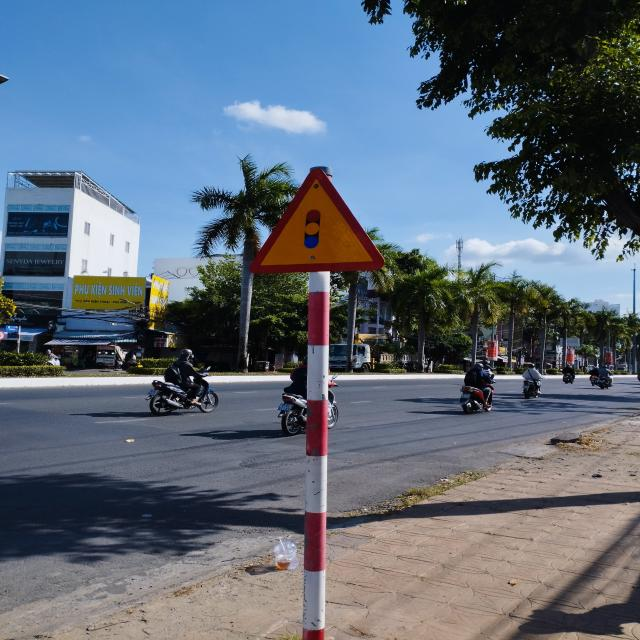Duong_Co_Go_Giam_Toc: (250, 167, 385, 276)
